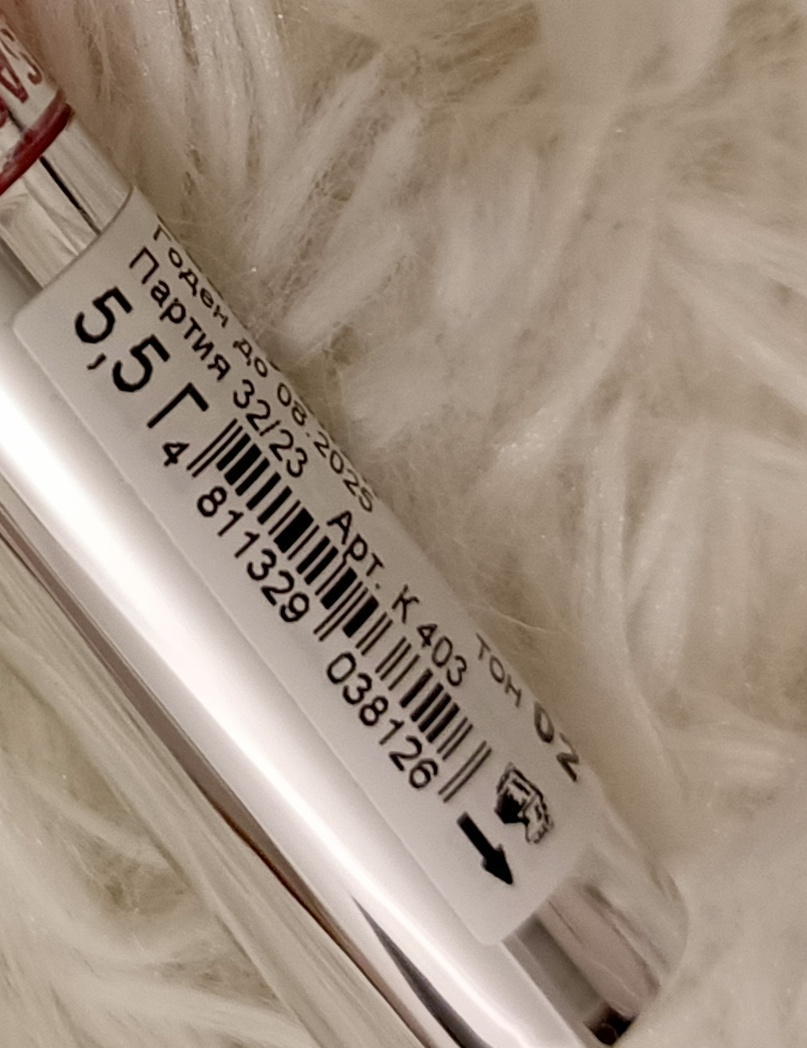1d: (177, 404, 502, 809)
